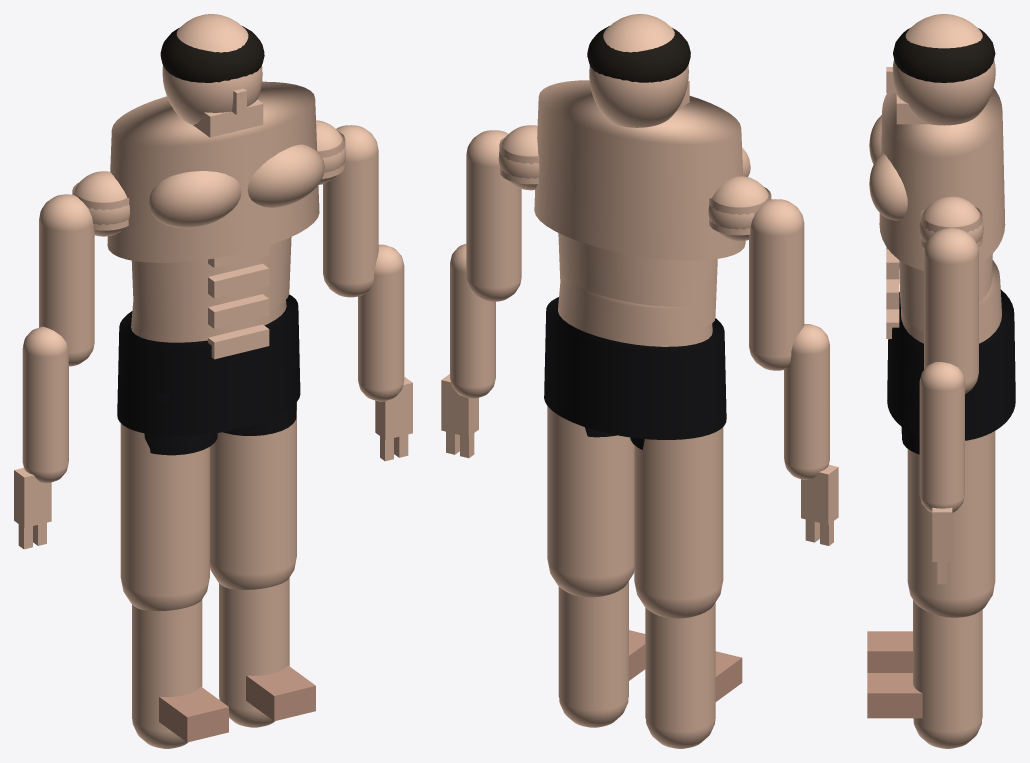
Rendered from male_model.obj.
The picture shows the model from 3 angles, left to right: view 1: azimuth 30°, elevation 25°; view 2: azimuth 150°, elevation 25°; view 3: azimuth 270°, elevation 25°; orthographic projection.
Parts seen in each view (by area): view 1: Chest, LeftLeg, RightLeg, Hips, LeftArm, RightArm, Abs, Head, Shoulders, Waist; view 2: Chest, LeftLeg, RightLeg, Hips, LeftArm, RightArm, Head, Abs, Waist, Shoulders; view 3: RightLeg, RightArm, Chest, Head, Hips, Abs, Shoulders, LeftLeg, Waist.
Boxes of the visible parts, bbox=[...] form: Chest: bbox=[107, 81, 324, 262]; LeftLeg: bbox=[120, 423, 228, 748]; RightLeg: bbox=[210, 402, 315, 727]; Hips: bbox=[117, 294, 300, 455]; LeftArm: bbox=[14, 194, 94, 549]; RightArm: bbox=[323, 125, 412, 461]; Abs: bbox=[131, 237, 291, 359]; Head: bbox=[160, 14, 264, 137]; Shoulders: bbox=[72, 120, 345, 236]; Waist: bbox=[131, 300, 286, 342]; Chest: bbox=[534, 80, 750, 260]; LeftLeg: bbox=[634, 427, 742, 748]; RightLeg: bbox=[547, 406, 645, 727]; Hips: bbox=[544, 297, 726, 449]; LeftArm: bbox=[749, 199, 838, 545]; RightArm: bbox=[441, 130, 521, 458]; Head: bbox=[587, 14, 690, 127]; Abs: bbox=[558, 233, 717, 326]; Waist: bbox=[558, 274, 712, 346]; Shoulders: bbox=[498, 125, 771, 241]; RightLeg: bbox=[867, 431, 995, 748]; RightArm: bbox=[919, 228, 978, 584]; Chest: bbox=[869, 88, 1005, 270]; Head: bbox=[886, 14, 995, 125]; Hips: bbox=[887, 289, 1015, 454]; Abs: bbox=[886, 247, 992, 338]; Shoulders: bbox=[919, 196, 983, 248]; LeftLeg: bbox=[867, 631, 912, 672]; Waist: bbox=[901, 260, 1001, 343].
Bounding box in the file's own units: 1.21 × 2.13 × 0.4055.
